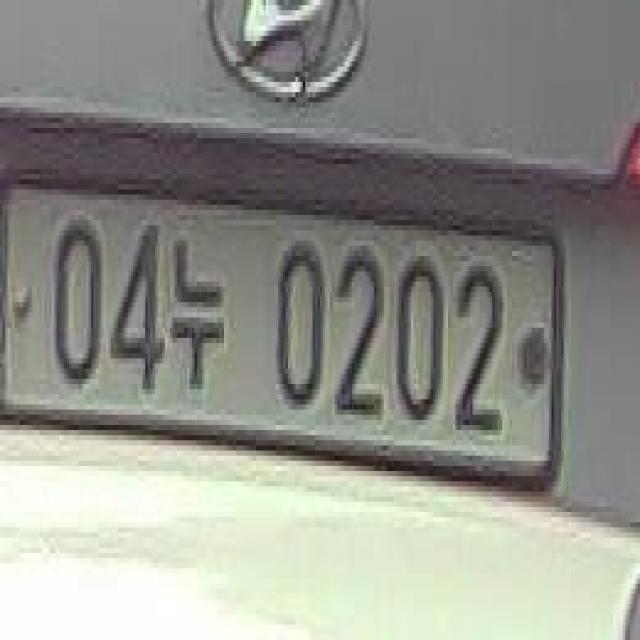illegal_plate: (7, 164, 574, 506)
